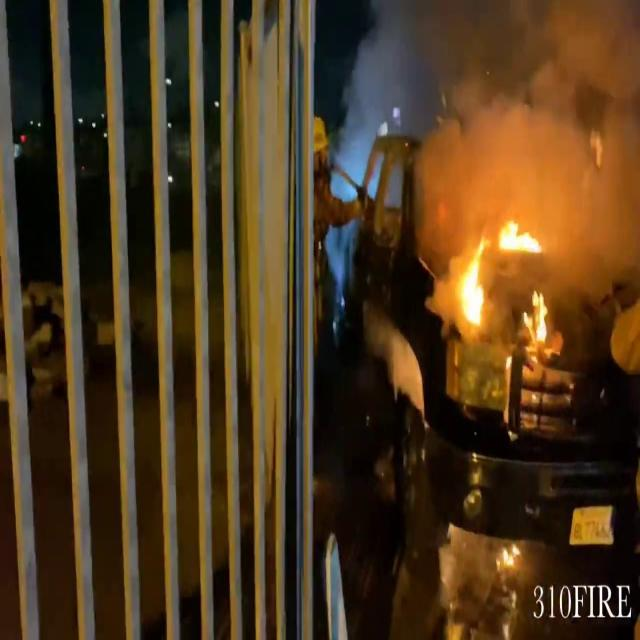Fire: (453, 240, 490, 332), (518, 286, 558, 359), (489, 212, 545, 258)
Smoke: (342, 0, 640, 252)
